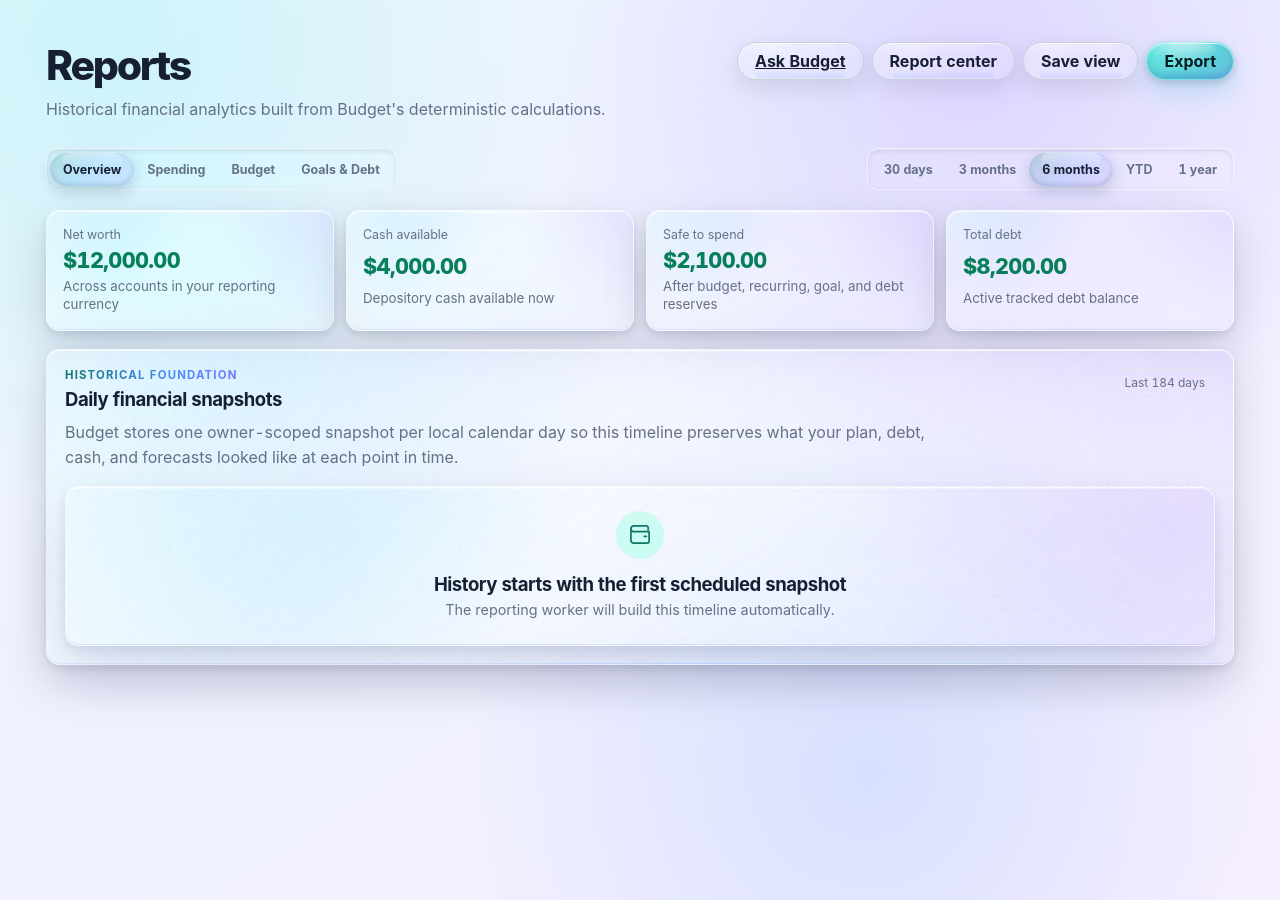
Test case: ReportsPage › switches to goals, debt, and forecast analytics
This screenshot has width=1280, height=900.
Click the button "Goals & Debt" at (340, 169), box [288, 152, 393, 186]
(page scrolled)
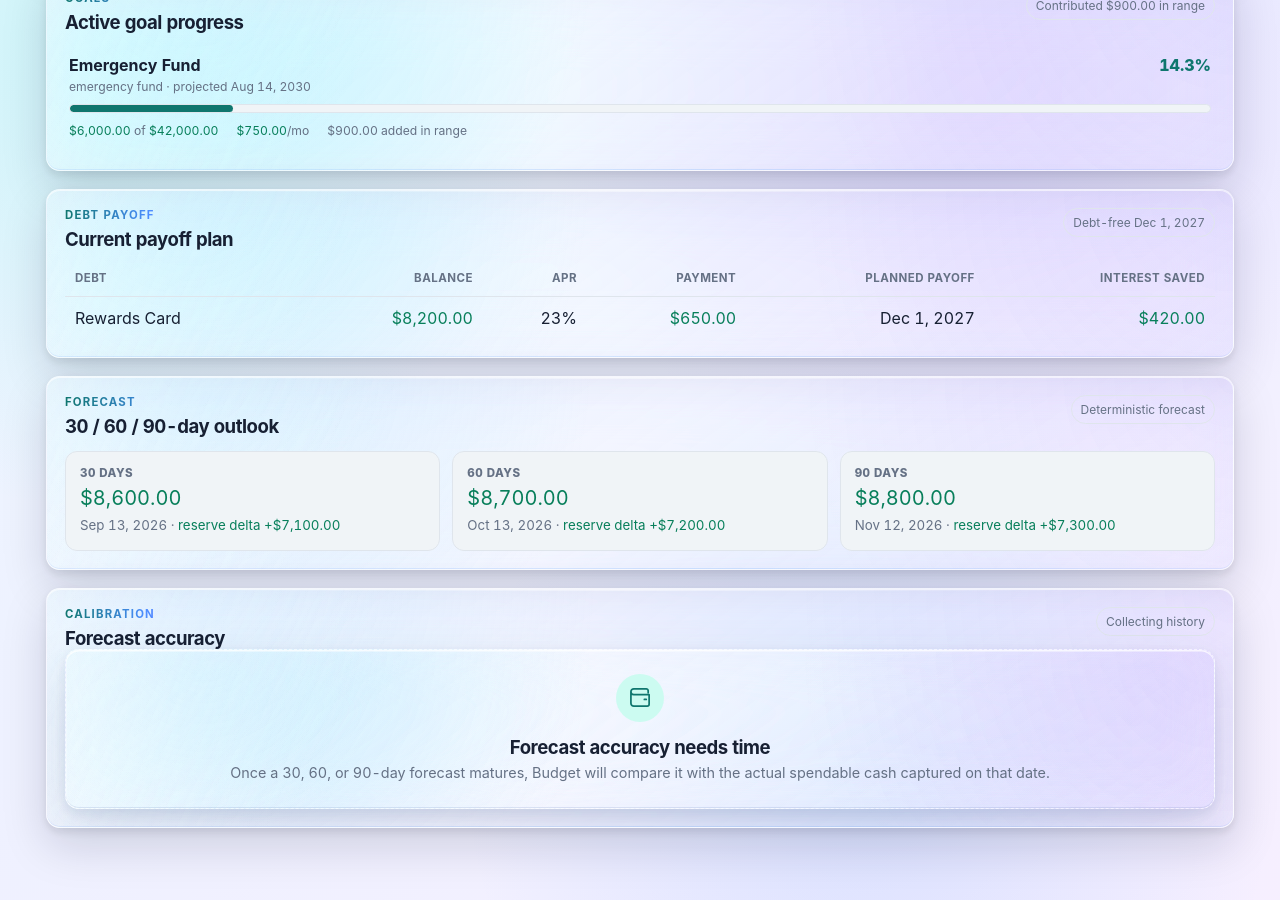
Result: the heading "Active goal progress" is shown at [65, 11, 244, 33]
Result: the text "Emergency Fund" is shown at [69, 55, 200, 75]
Result: the text "Rewards Card" is shown at [65, 297, 297, 339]
